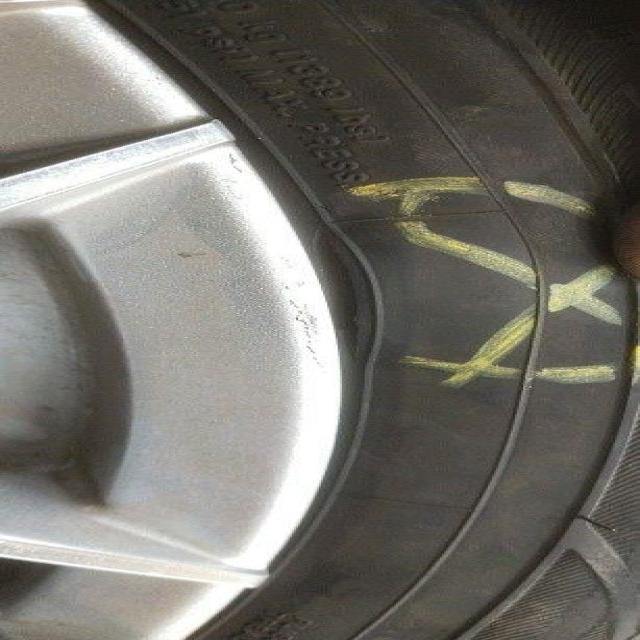Bulge: (344, 220, 611, 382)
